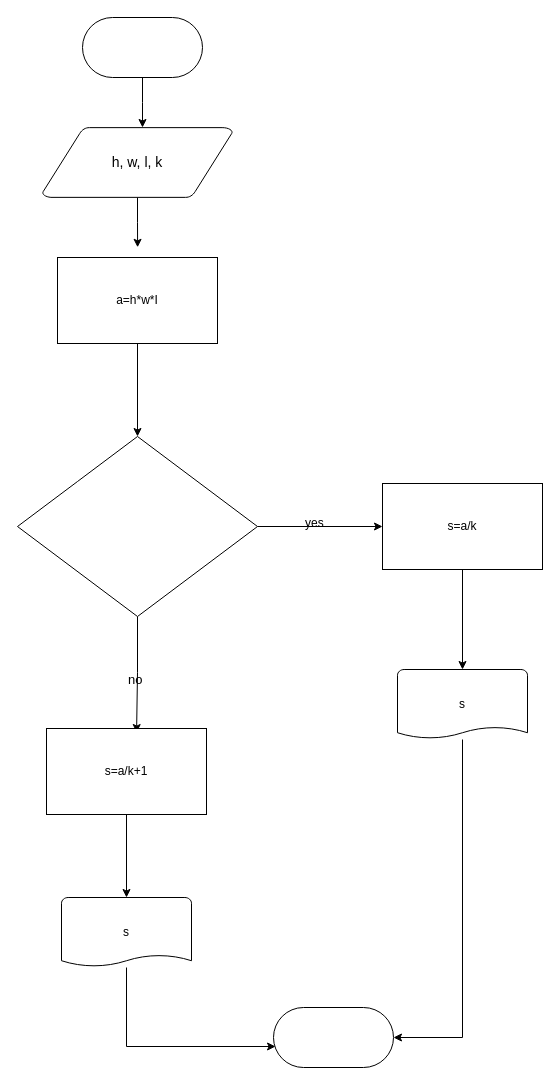
Image size: 560x1085. Some labels were removed from this diagram. Here are the shapes that lost their labels. From the top down, the centre of each, then its label:
At [142,47]: "bawla".
At [137,526]: "a%k==0".
At [333,1037]: "son".
